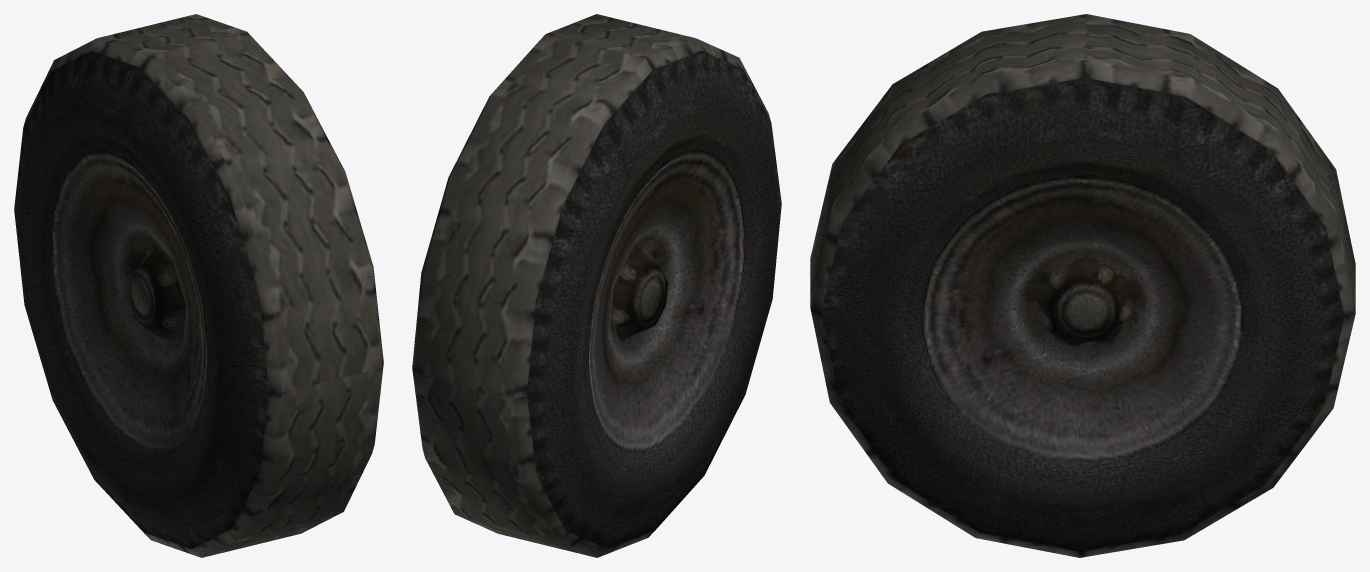
File: uaz_wheel.obj
3 views of the same model, side by side, from view 1: azimuth 30°, elevation 25°; view 2: azimuth 150°, elevation 25°; view 3: azimuth 270°, elevation 25° (orthographic). The views are drawn at different scales.
Visible parts, largest first — view 1: Jeep.003; view 2: Jeep.003; view 3: Jeep.003.
Boxes of the visible parts, box(x1,y1,x2,y2) form: Jeep.003: box(14, 14, 383, 557); Jeep.003: box(412, 14, 781, 557); Jeep.003: box(810, 14, 1355, 557).
Bounding box in the file's own units: 0.6696 × 2 × 2.
1 material, 1 textured.
